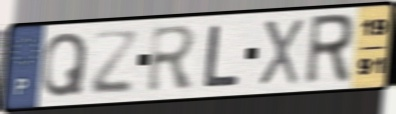L: (201, 23, 242, 90)
Q: (39, 31, 90, 101)
R: (302, 11, 356, 89), (146, 23, 199, 96)
X: (257, 17, 305, 88)
Z: (88, 29, 140, 97)
